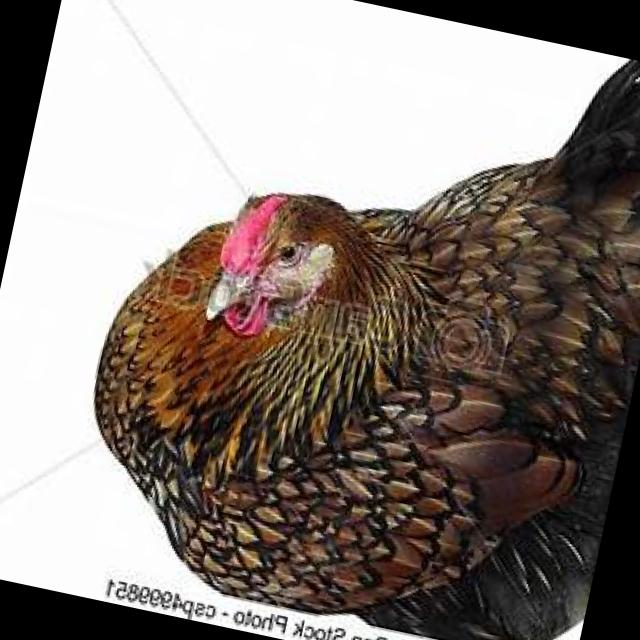animal: (55, 0, 640, 640)
